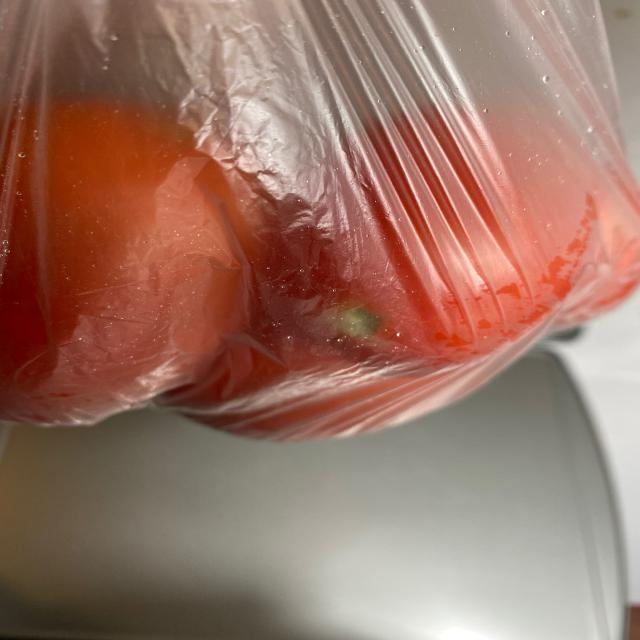tomato: (6, 89, 622, 434)
